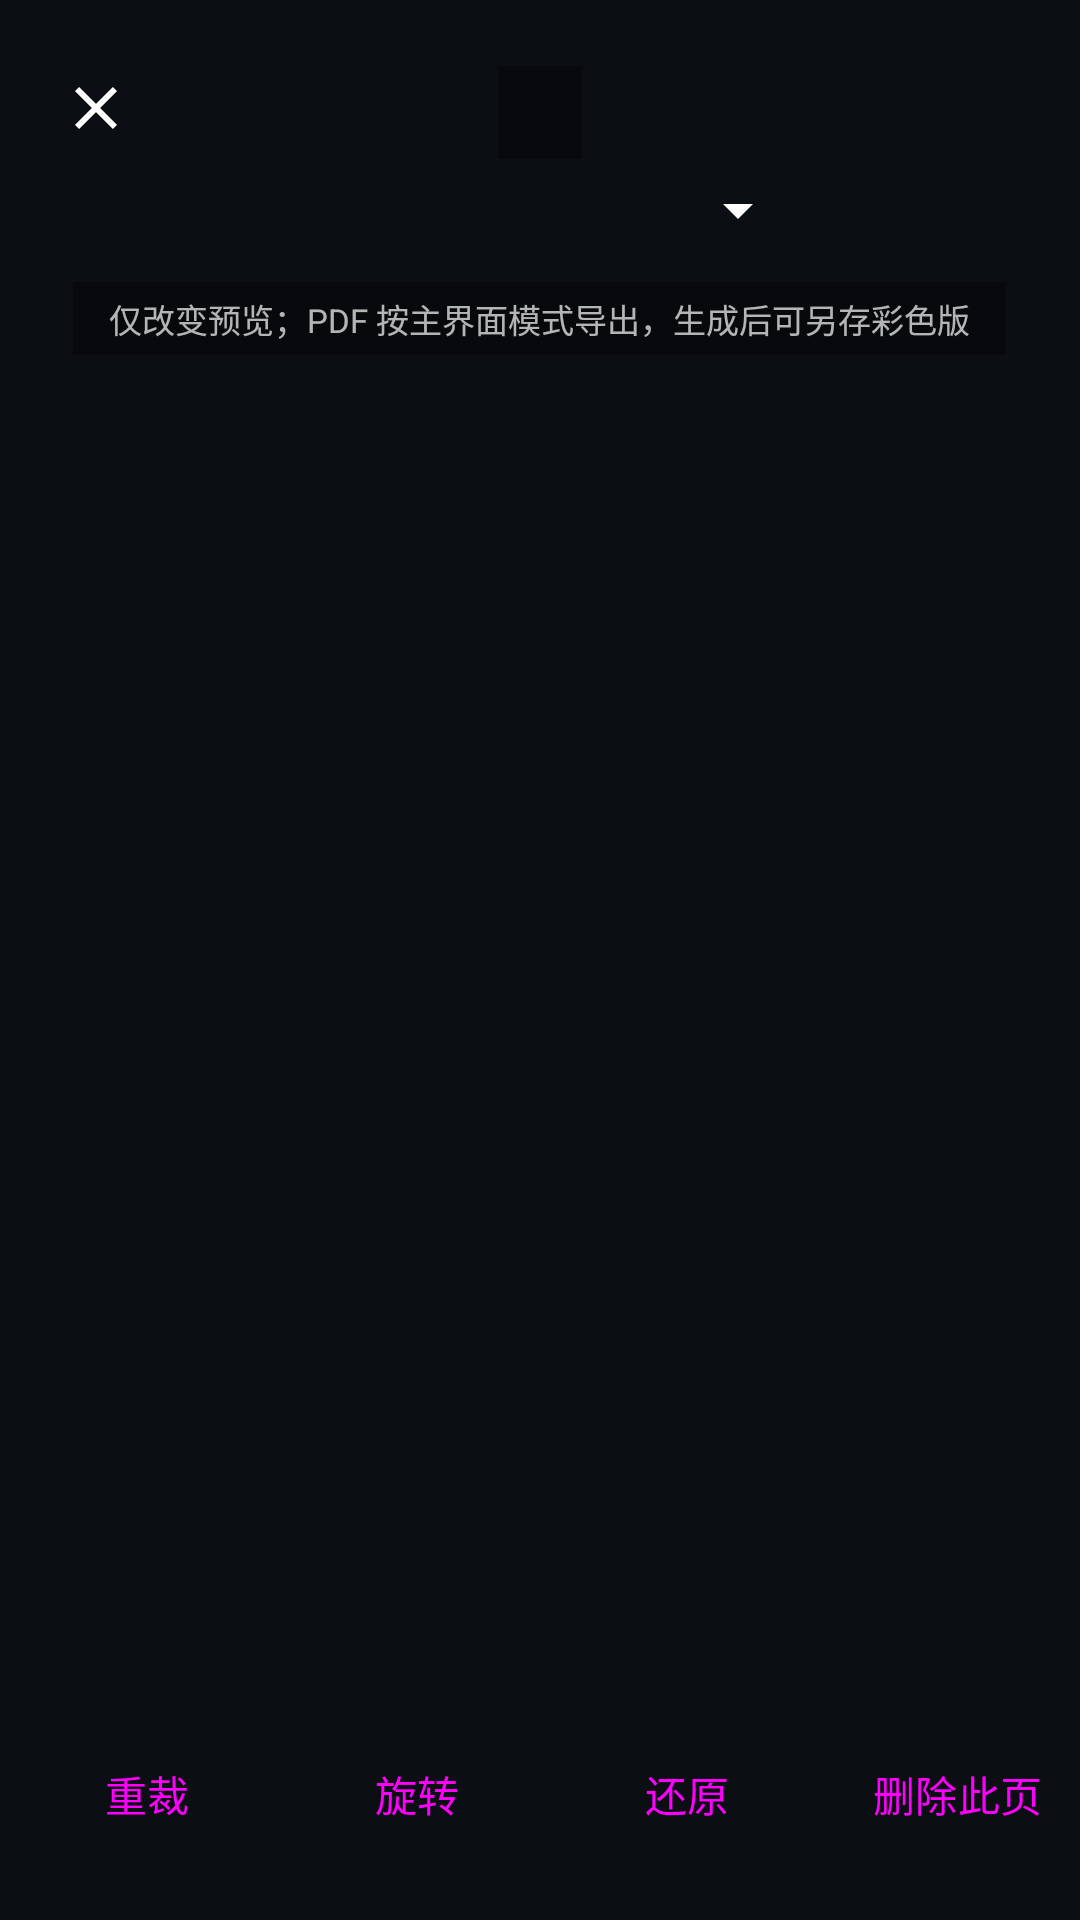

Point at icon controls on the screen. Image size 1080px x 1920px, points as (x,y).
关闭: (96,108)
